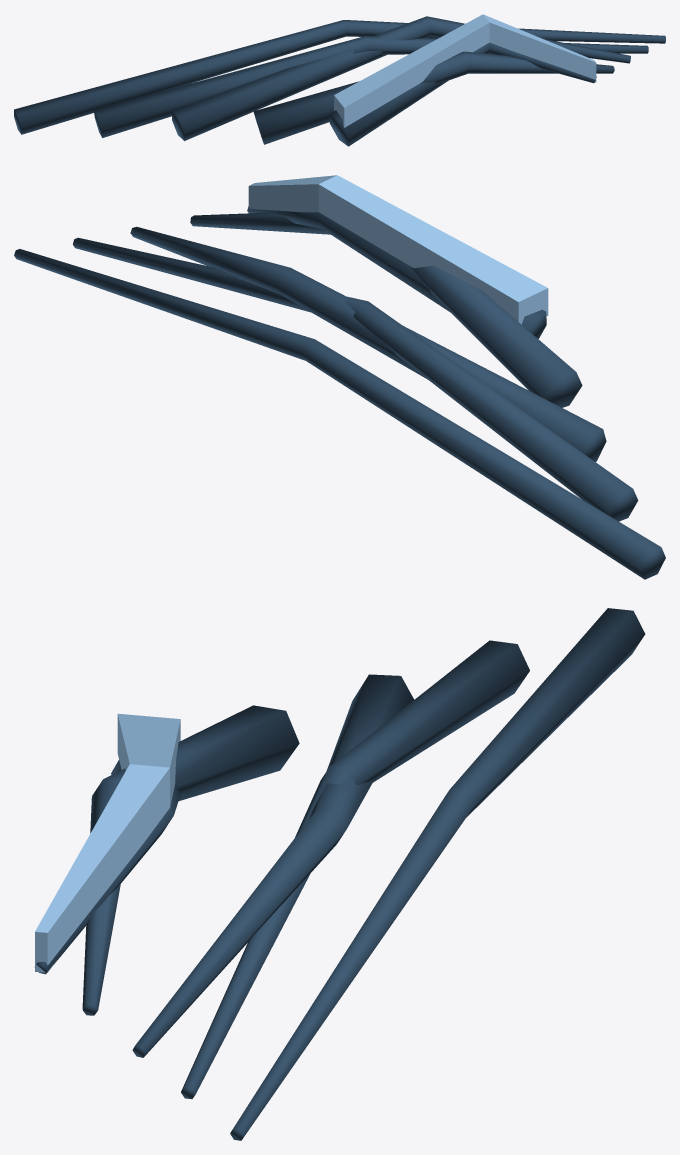
The model's file is branch_bundle.glb.
The picture shows the model from 3 angles, top to bottom: view 1: azimuth 30°, elevation 25°; view 2: azimuth 150°, elevation 25°; view 3: azimuth 270°, elevation 25°; orthographic projection. The views are drawn at different scales.
Parts seen in each view (by area): view 1: Near; view 2: Near; view 3: Near.
Part boxes in pixels (left/top/right/bottom): Near: left=14, top=14, right=665, bottom=146; Near: left=14, top=175, right=665, bottom=579; Near: left=34, top=608, right=645, bottom=1140.
Bounding box in the file's own units: 1.31 × 0.2574 × 0.6232.
